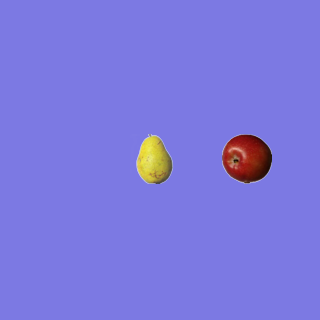Apple Braeburn: (221, 133, 271, 183)
Pear Monster: (129, 133, 179, 183)
